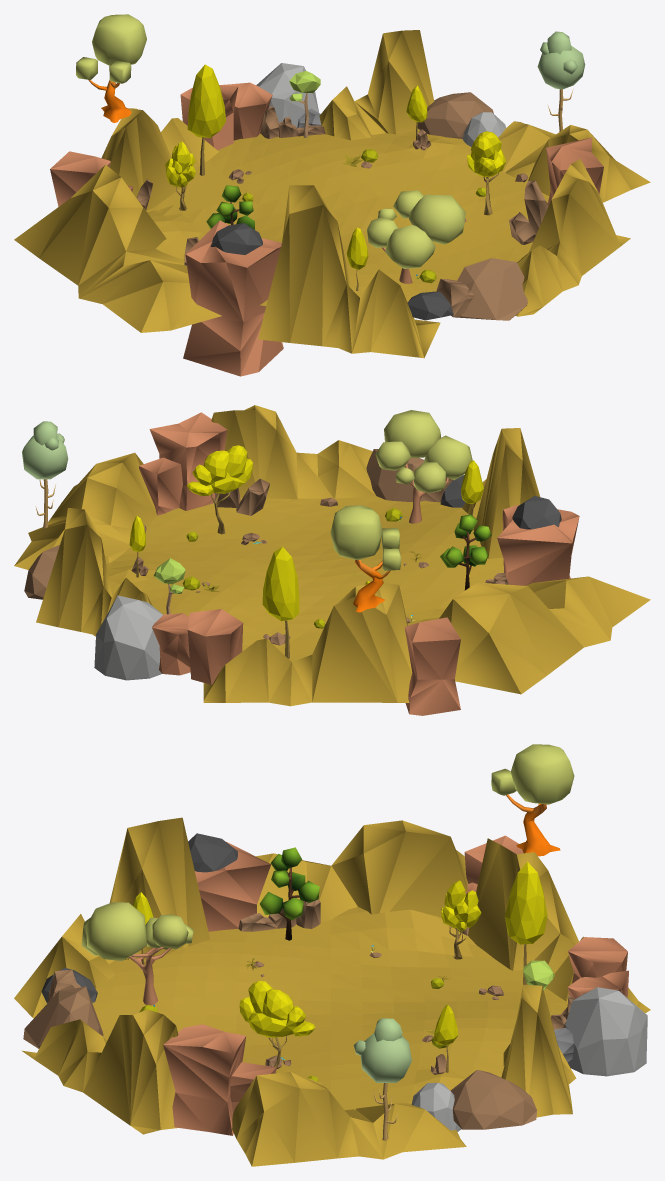
Rendered from Environment_Scene_2.fbx.
The picture shows the model from 3 angles, top to bottom: view 1: azimuth 30°, elevation 25°; view 2: azimuth 150°, elevation 25°; view 3: azimuth 270°, elevation 25°; orthographic projection. The views are drawn at different scales.
Visible parts, largest first — view 1: Environment_Scene_2; view 2: Environment_Scene_2; view 3: Environment_Scene_2.
Part boxes in pixels (x1,y1,x2,y2): Environment_Scene_2: (14, 14, 650, 376); Environment_Scene_2: (14, 405, 650, 715); Environment_Scene_2: (14, 744, 650, 1166).
Size of the model in its own units: 3414 by 1318 by 3009.
